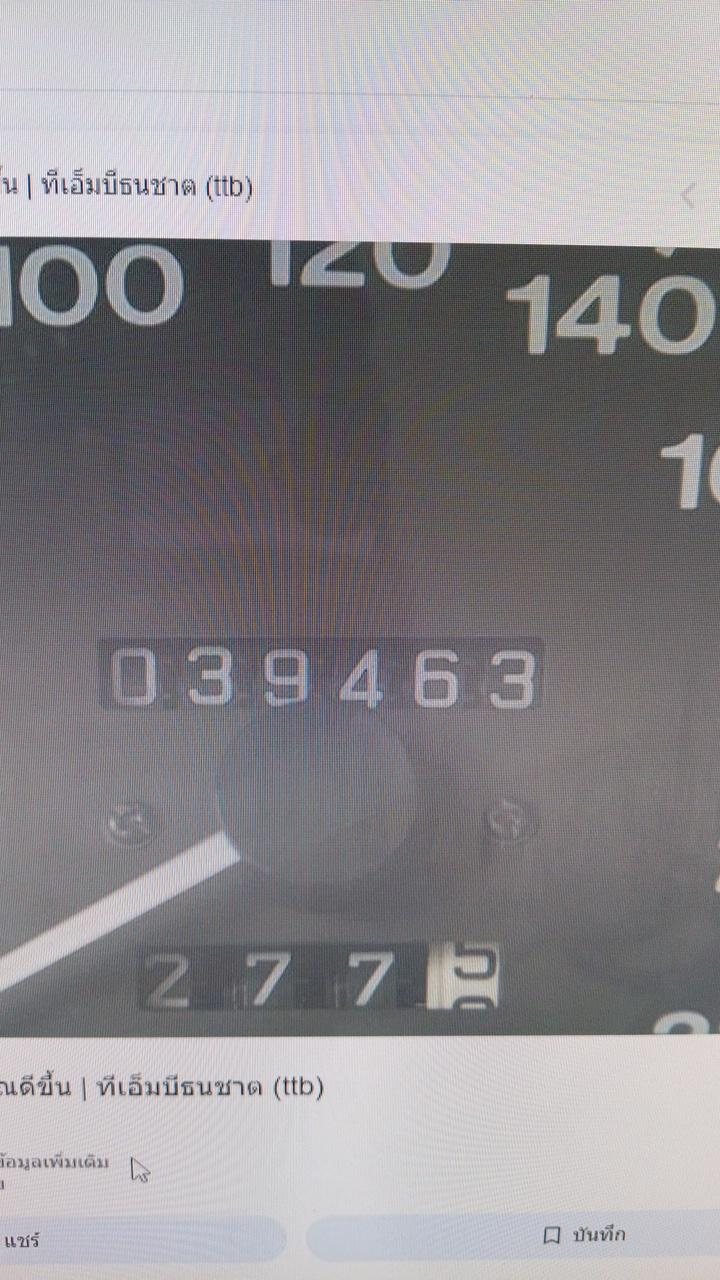0: (109, 647, 157, 707)
3: (488, 648, 537, 711), (185, 645, 234, 707)
4: (336, 645, 383, 710)
6: (414, 647, 461, 709)
9: (263, 646, 310, 706)
odometer: (95, 634, 548, 717)
